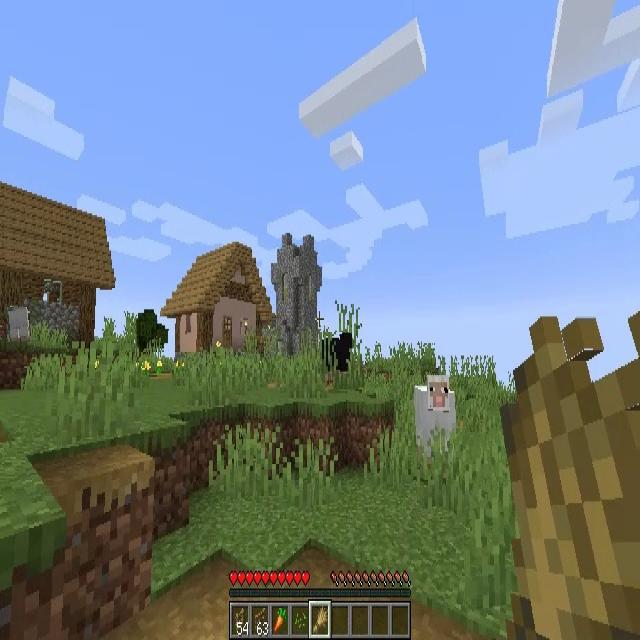sheep: (414, 376, 456, 452), (319, 332, 352, 374), (7, 307, 30, 342)
